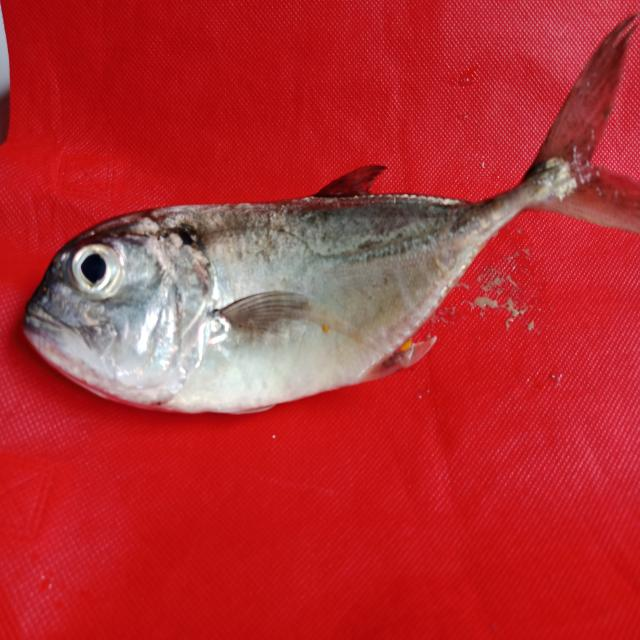ikan: (20, 18, 632, 435)
